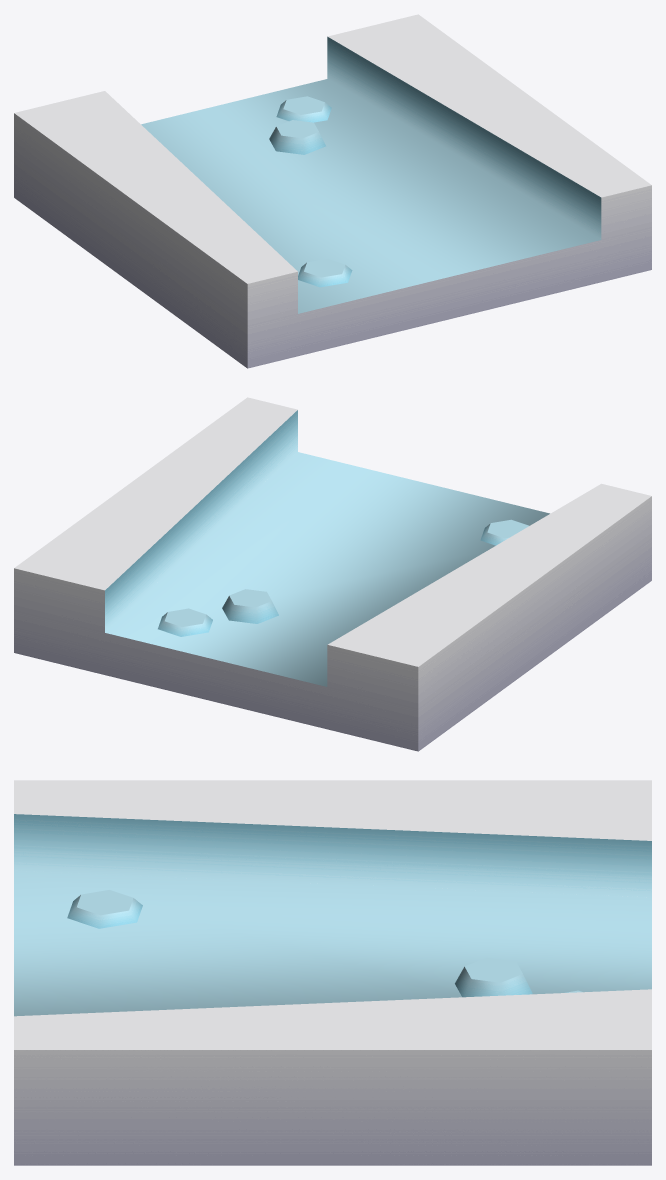
Rendered from tower-defense-kit--snow-tile-transition.glb.
The picture shows the model from 3 angles, top to bottom: view 1: azimuth 30°, elevation 25°; view 2: azimuth 150°, elevation 25°; view 3: azimuth 270°, elevation 25°; orthographic projection. The views are drawn at different scales.
Visible parts, largest first — view 1: snow-tile-transition; view 2: snow-tile-transition; view 3: snow-tile-transition.
Part boxes in pixels (x1,y1,x2,y2): snow-tile-transition: (14,14,651,368); snow-tile-transition: (14,397,651,751); snow-tile-transition: (14,780,651,1165).
Size of the model in its own units: 1 by 0.2 by 1.
1 material, 1 textured.
